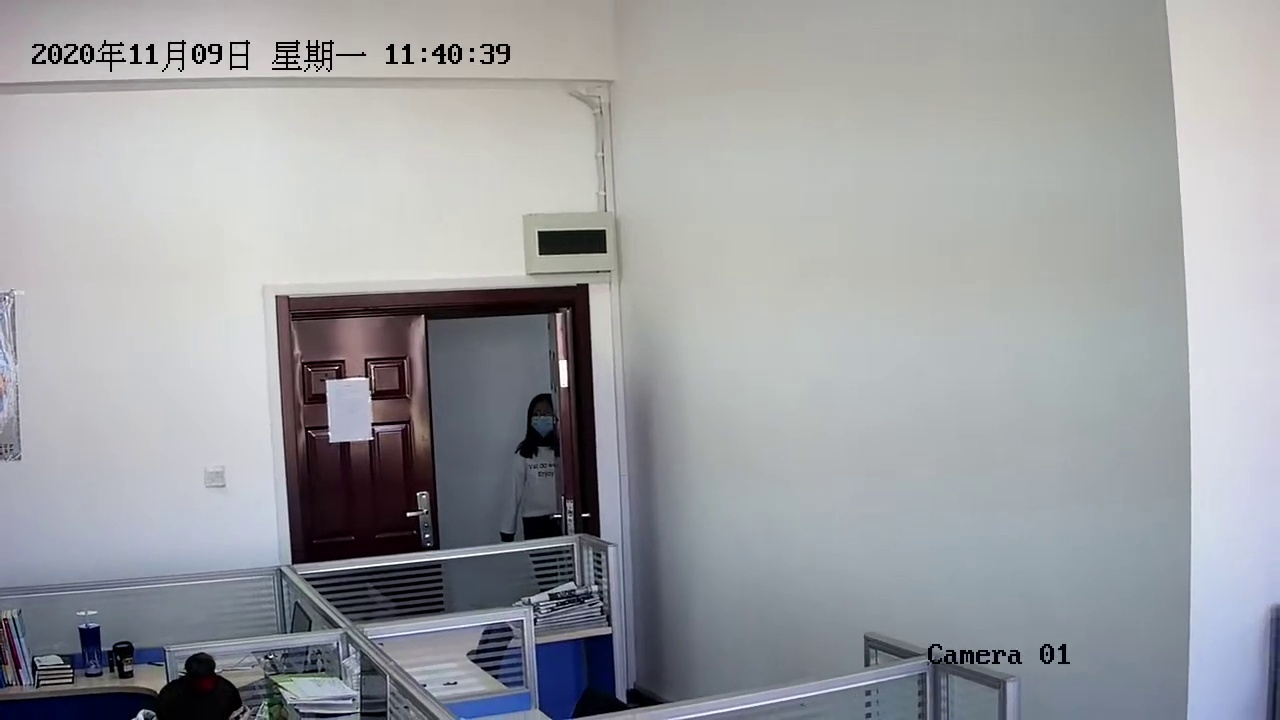mask: (521, 382, 567, 441)
